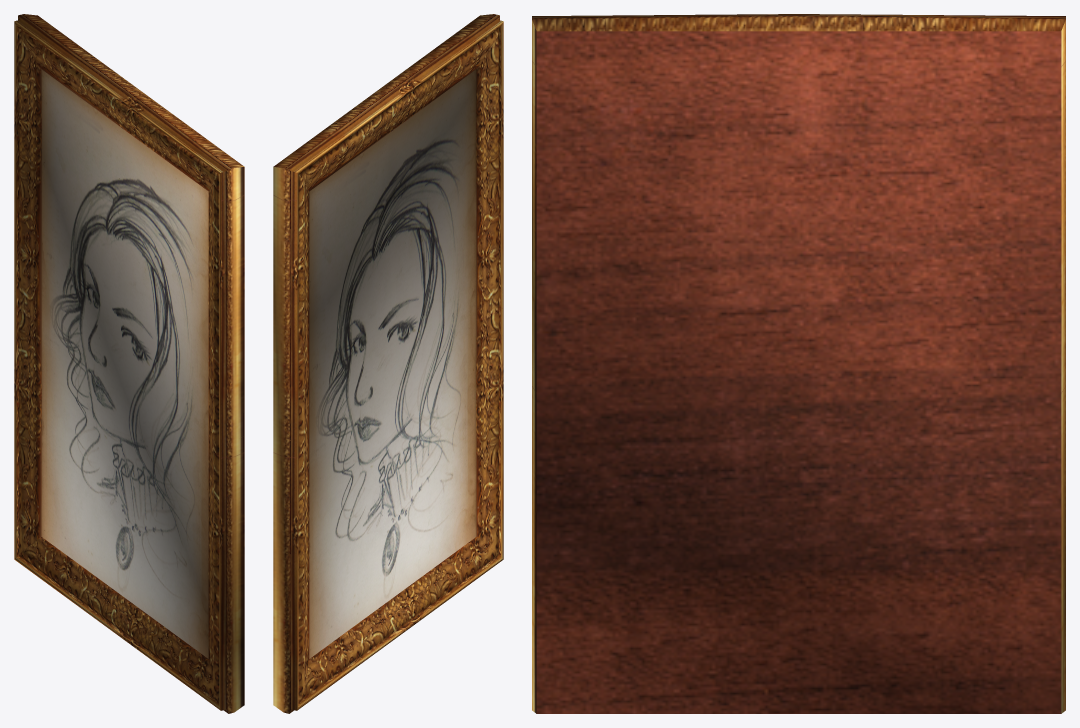
Rendered from BigPicture.fbx.
The picture shows the model from 3 angles, left to right: view 1: azimuth 30°, elevation 25°; view 2: azimuth 150°, elevation 25°; view 3: azimuth 270°, elevation 25°; orthographic projection. The views are drawn at different scales.
Parts seen in each view (by area): view 1: Plane; view 2: Plane; view 3: Plane.
Part boxes in pixels (bbox=[...]): Plane: bbox=[14, 14, 244, 713]; Plane: bbox=[273, 14, 503, 713]; Plane: bbox=[532, 14, 1065, 713].
Size of the model in its own units: 0.1533 by 3.39 by 2.36.
Materials: 1 (1 with a texture image).
